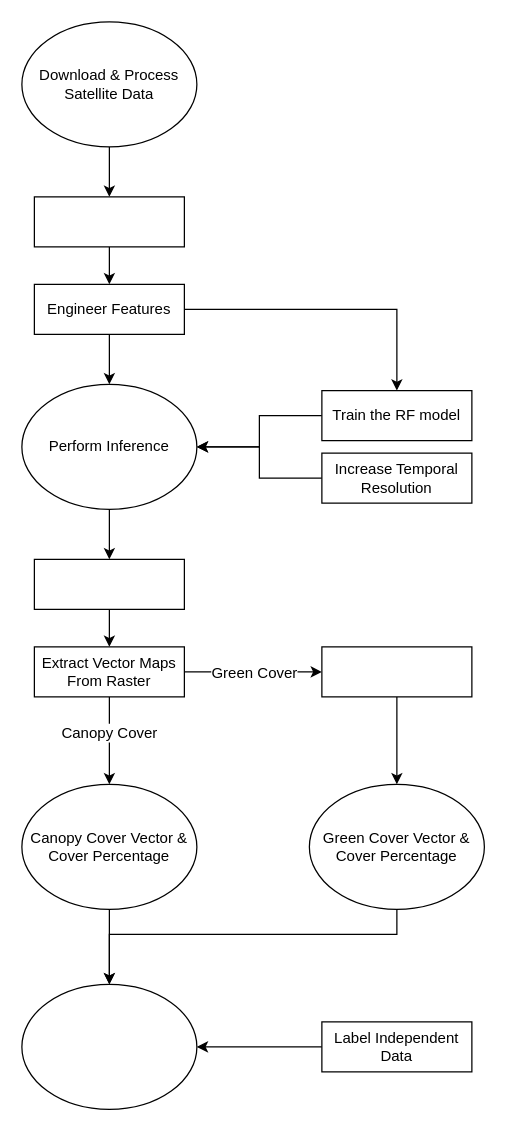
The diagram is 506 pixels wide and 1131 high, and some of its shapes have lost their labels. The centre of each missing label's shape, as x and y in pixels:
"Assess Accuracy of Green & Canopy Covers" goes at pixel 109 1046.
"Enhance Green Vector Cover" goes at pixel 396 671.
"Get Green & Canopy Covers" goes at pixel 108 583.
"Label Ground Truth" goes at pixel 108 221.
